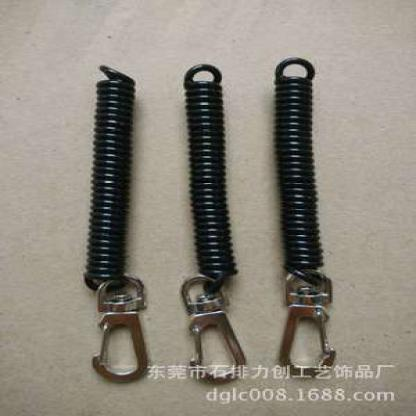FOD: (179, 60, 244, 294), (78, 63, 140, 294), (270, 54, 326, 288)
